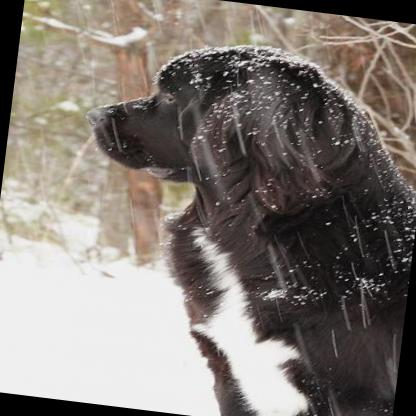Newfoundland: (49, 24, 416, 416)
